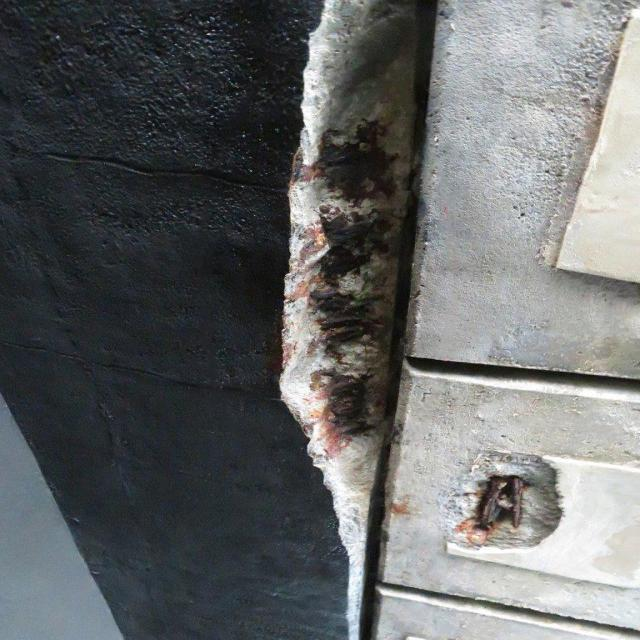Rebar: (276, 0, 421, 639), (445, 449, 562, 549)
